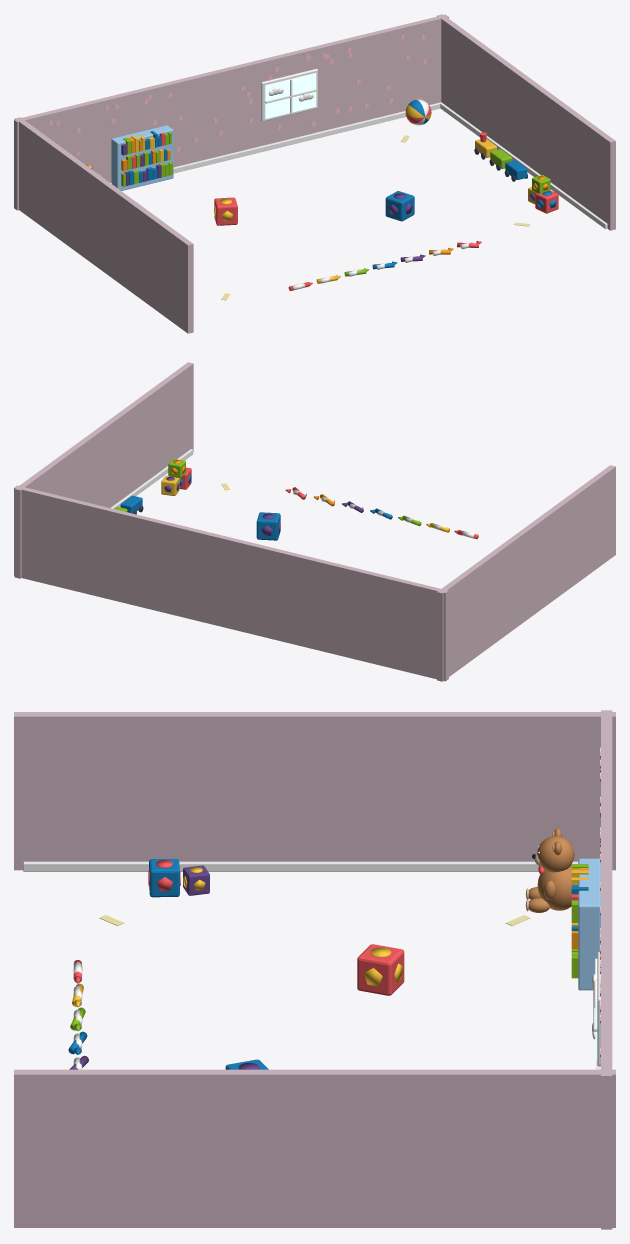
The model's file is place_toys.glb.
3 renders of one model, top to bottom at view 1: azimuth 30°, elevation 25°; view 2: azimuth 150°, elevation 25°; view 3: azimuth 270°, elevation 25°, orthographic. The views are drawn at different scales.
Visible parts, largest first — view 1: scenery.002, obstacle_block1, obstacle_block0; view 2: scenery.002, obstacle_block1; view 3: scenery.002, obstacle_block0.
Boxes of the visible parts, bbox=[...] form: scenery.002: bbox=[14, 14, 615, 333]; obstacle_block1: bbox=[385, 191, 414, 221]; obstacle_block0: bbox=[214, 197, 237, 225]; scenery.002: bbox=[14, 362, 615, 681]; obstacle_block1: bbox=[256, 512, 280, 540]; scenery.002: bbox=[14, 710, 615, 1229]; obstacle_block0: bbox=[357, 944, 404, 995].
Bounding box in the file's own units: 46 × 9.06 × 32.
